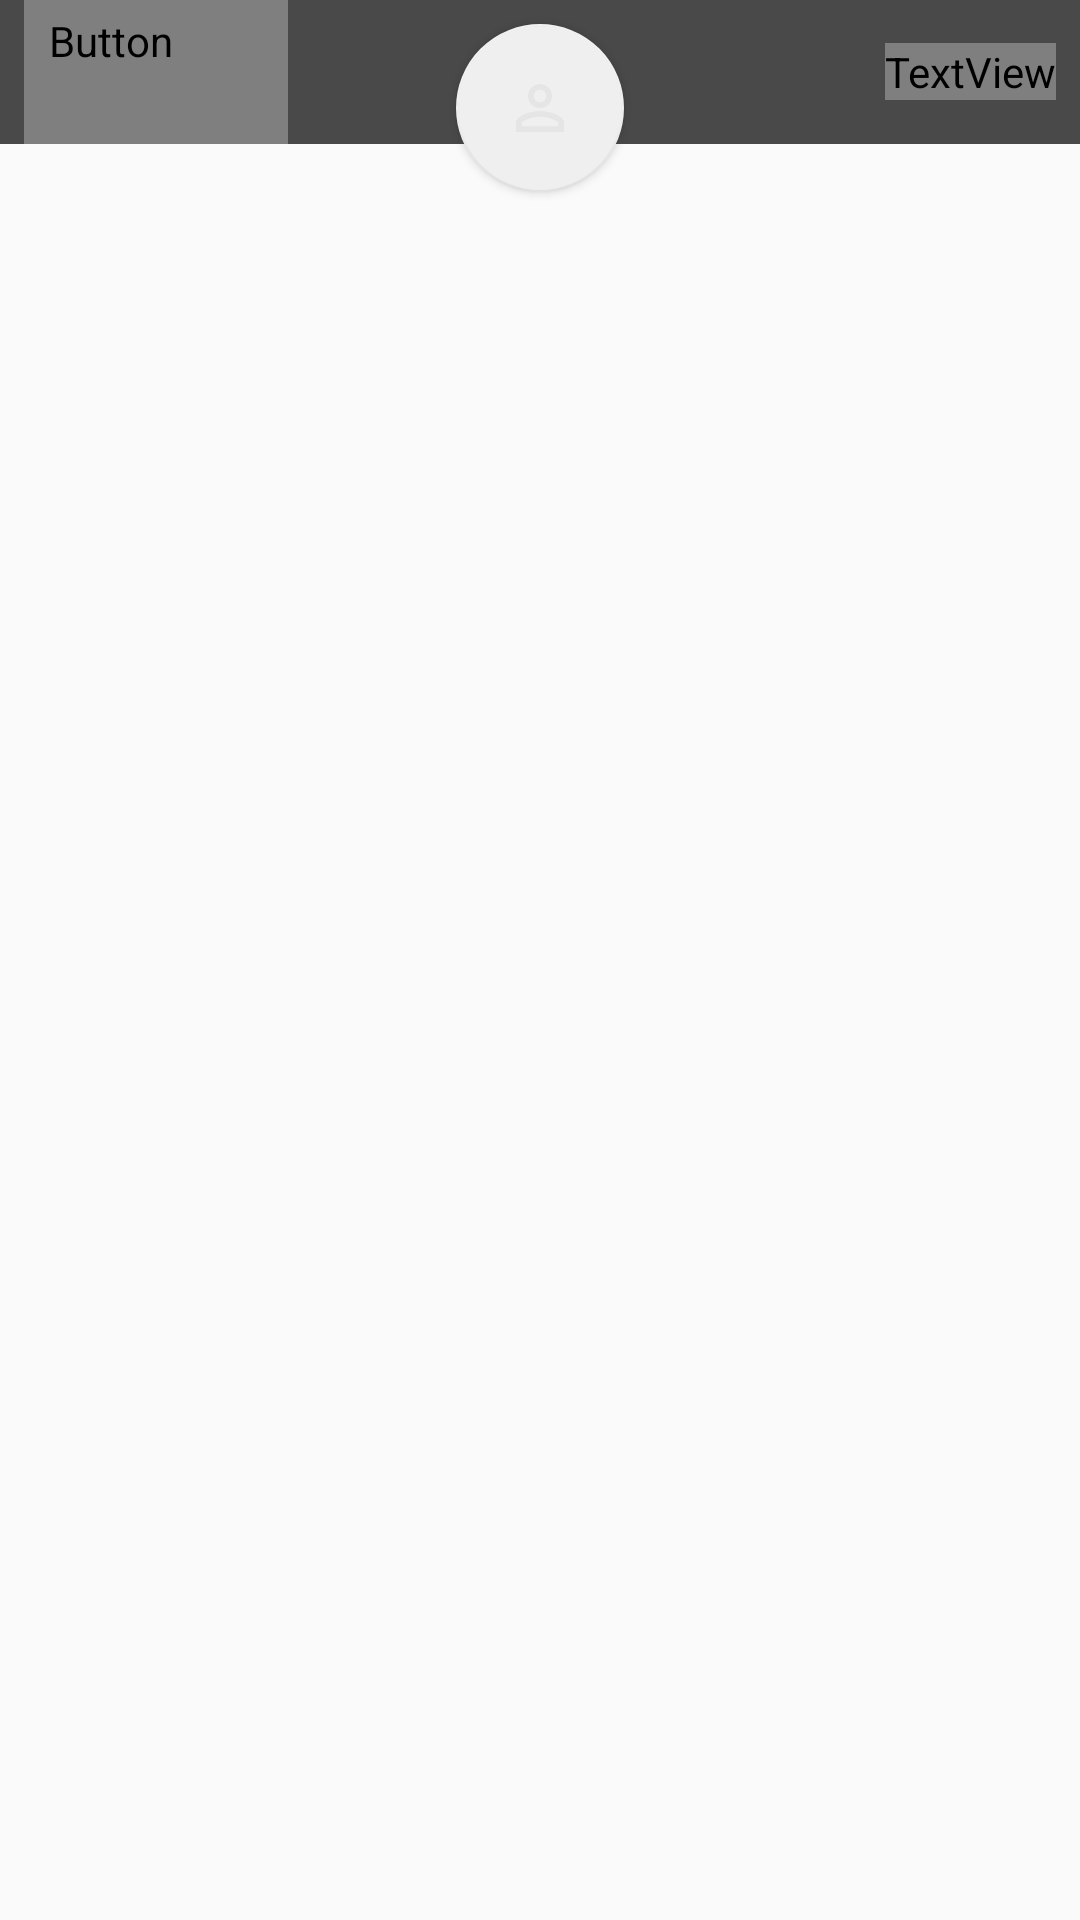

Icons on this 1080px x 1920px Android screen, each with the point to tap as (x,y):
person: (540,108)
